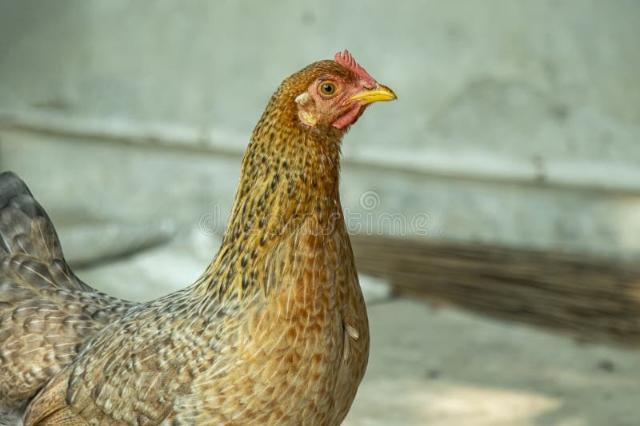Chicken: (2, 49, 399, 426)
